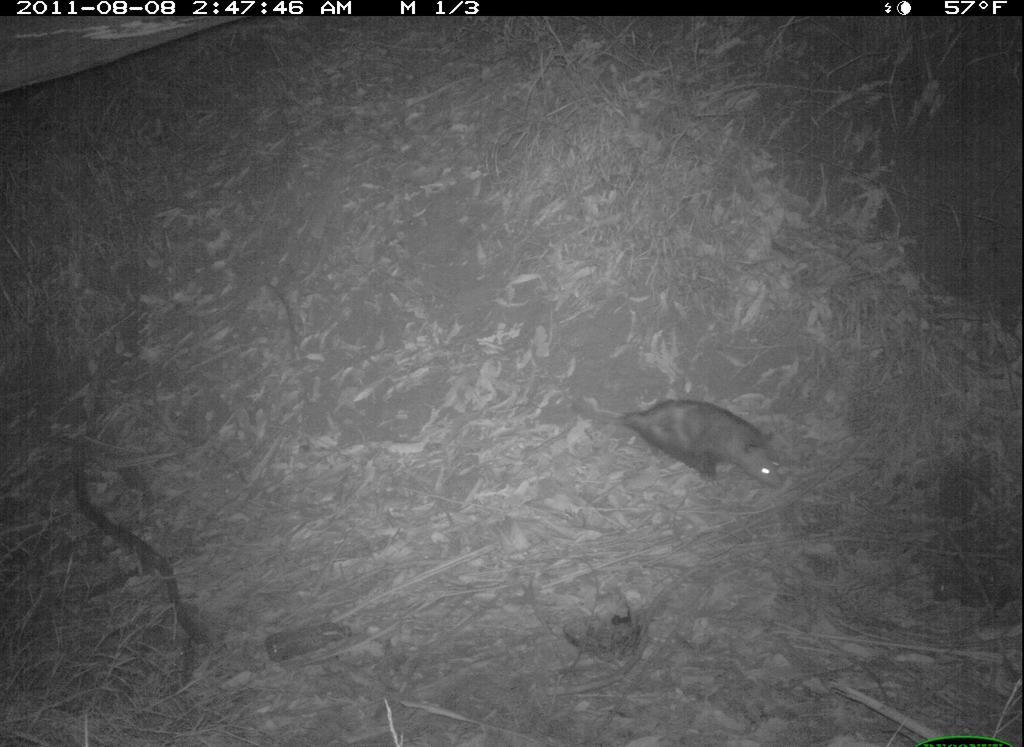opossum: (570, 369, 792, 495)
